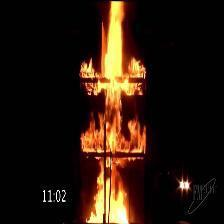fire: (75, 0, 148, 222)
